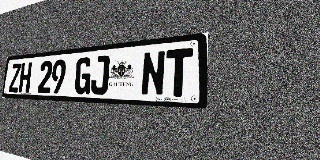2: (38, 60, 53, 93)
9: (50, 59, 67, 94)
G: (74, 57, 92, 94)
H: (18, 62, 32, 93)
J: (90, 55, 110, 95)
N: (140, 50, 166, 96)
T: (165, 48, 193, 97)
Z: (8, 63, 21, 92)
